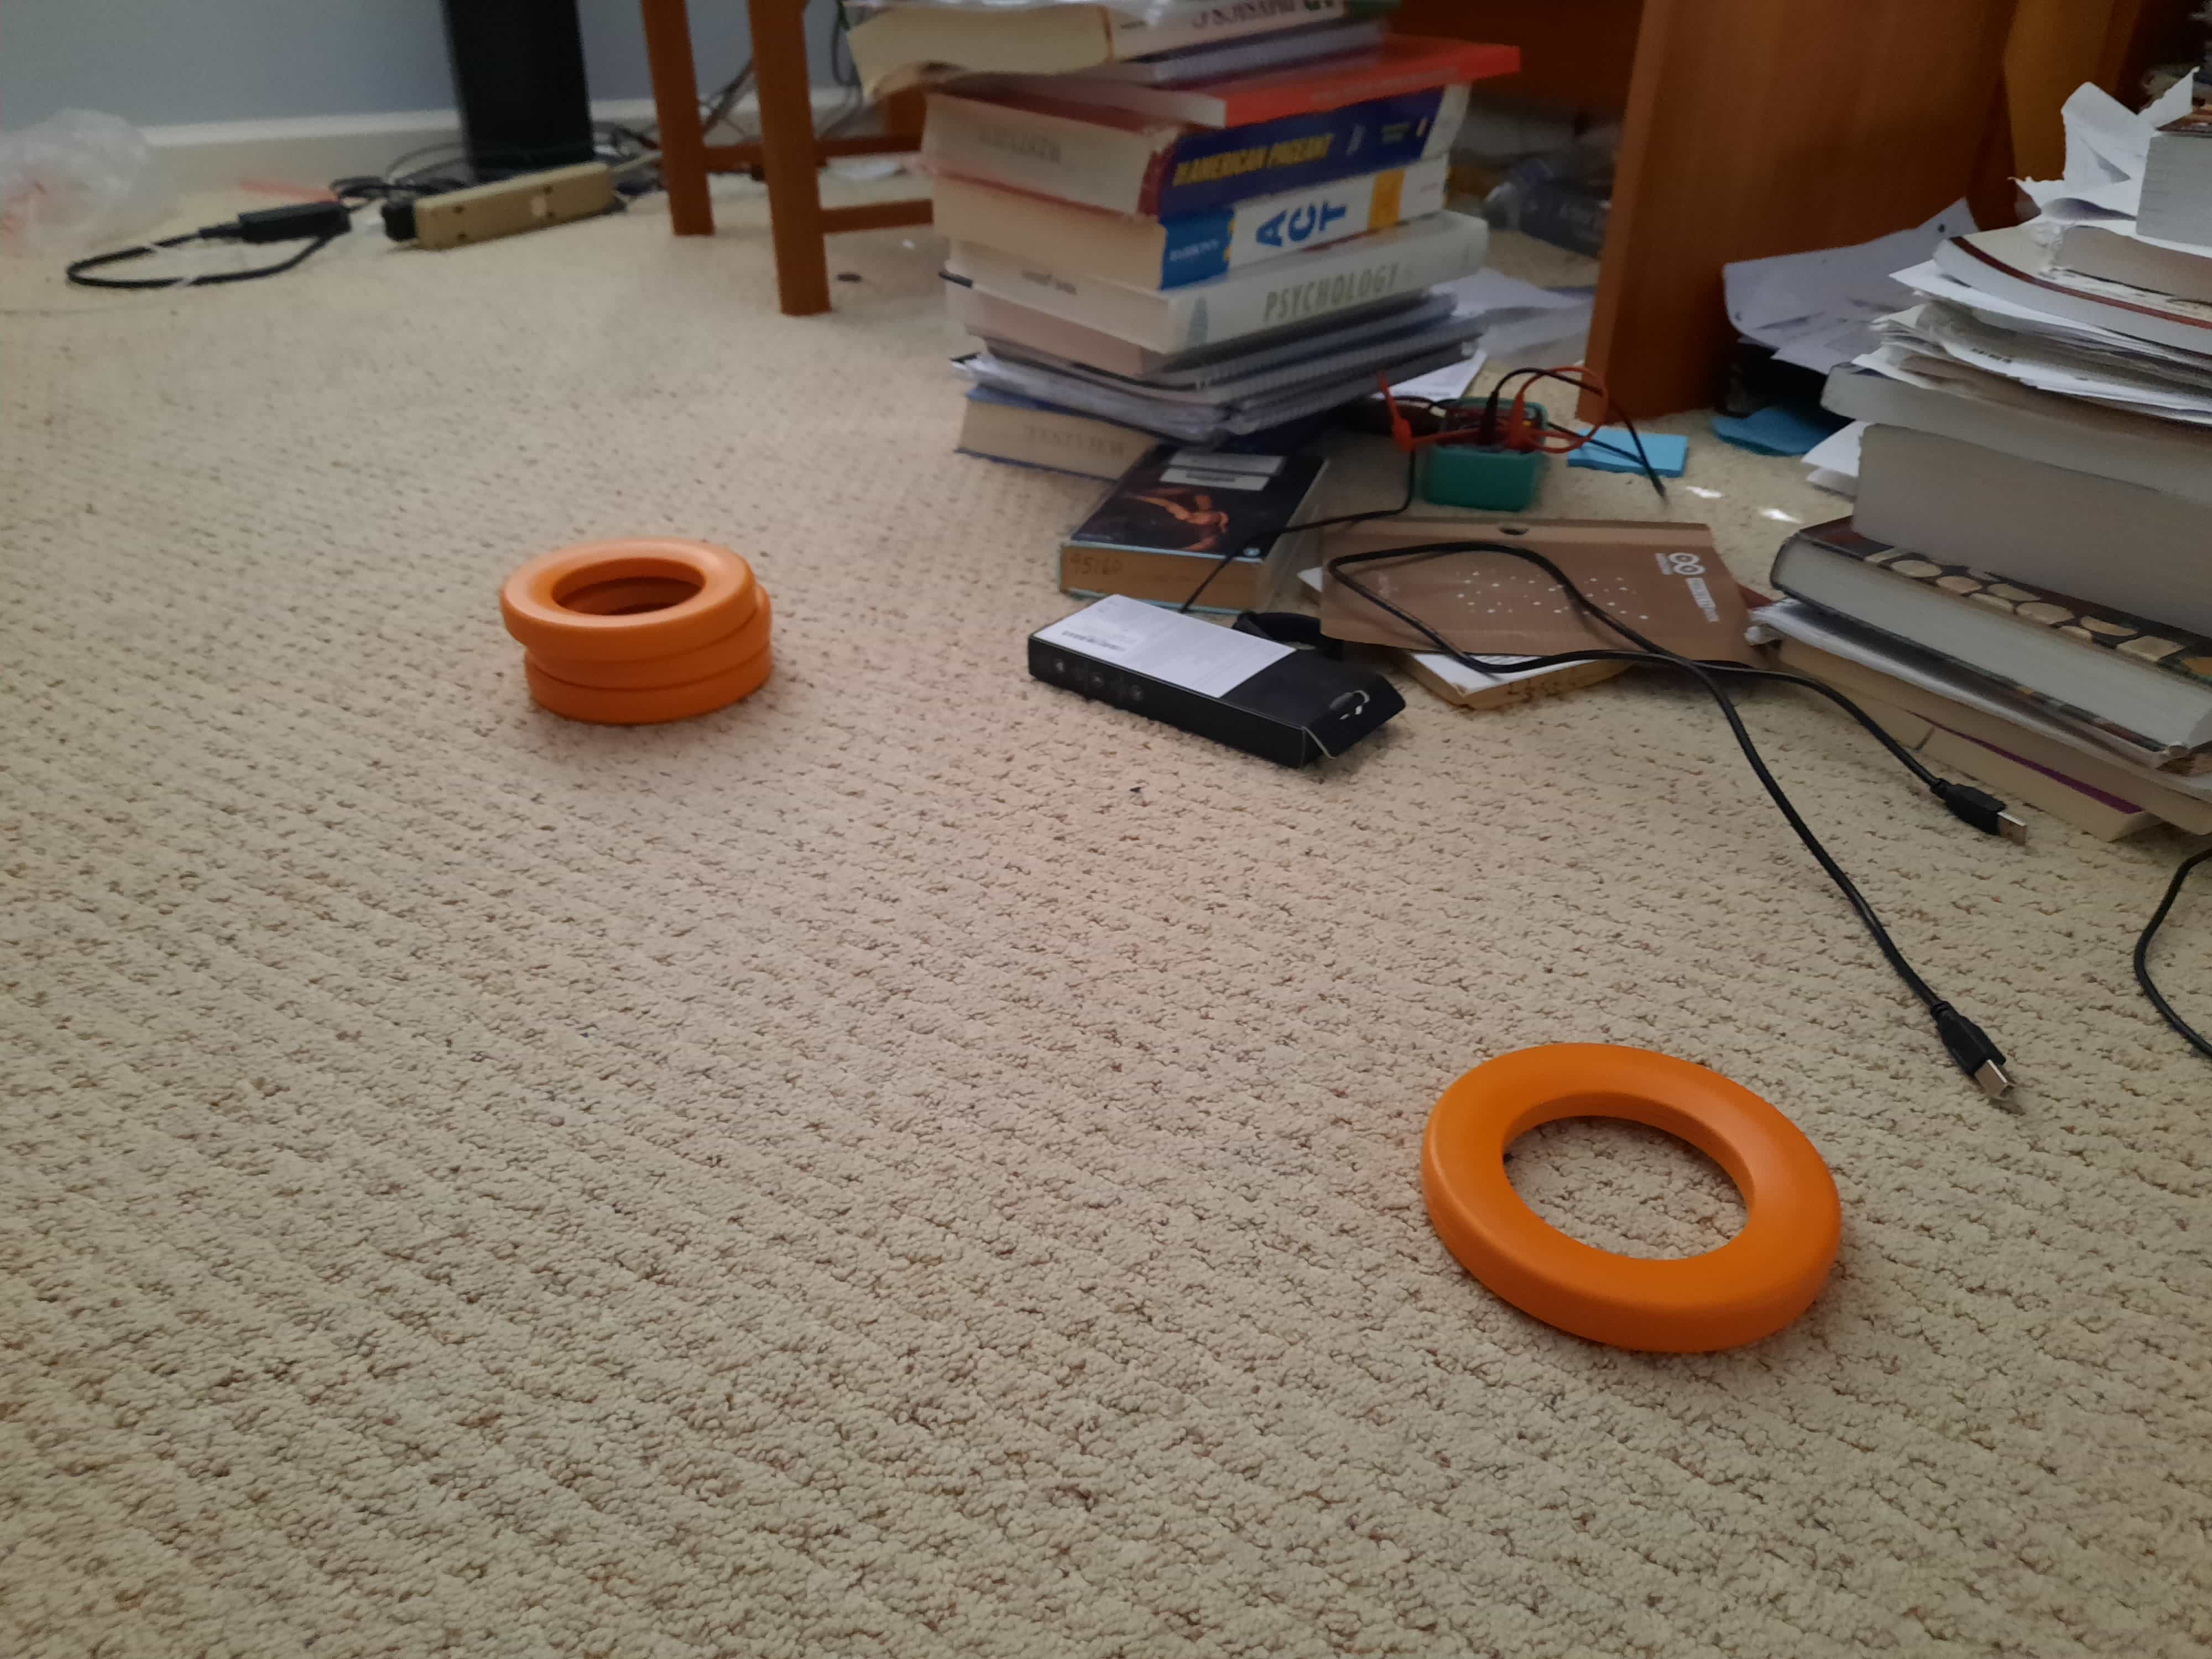FourStack: (509, 554, 772, 723)
OneStack: (1425, 1040, 1846, 1335)
